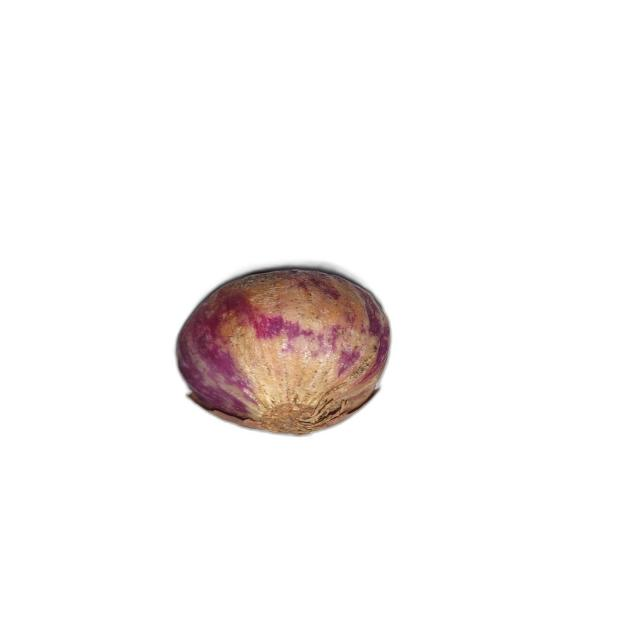onion: (176, 267, 392, 437)
